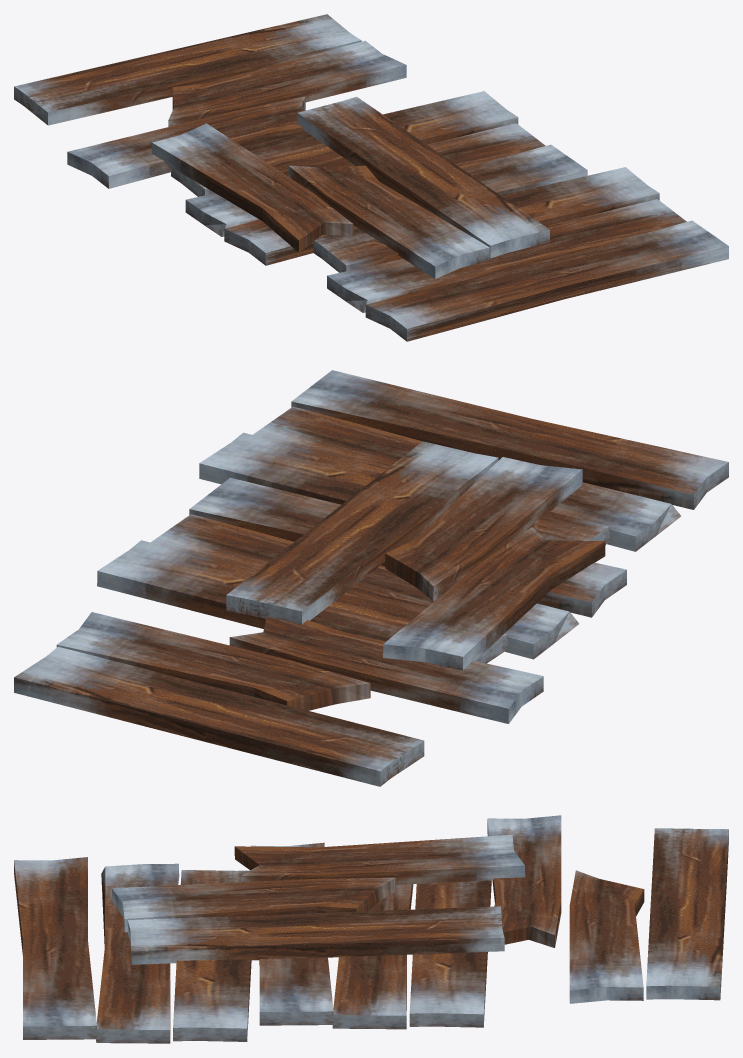
The model's file is Ice_wood02.FBX.
3 views of the same model, one above another, from view 1: azimuth 30°, elevation 25°; view 2: azimuth 150°, elevation 25°; view 3: azimuth 270°, elevation 25° (orthographic). The views are drawn at different scales.
Visible parts, largest first — view 1: 10205_wood007; view 2: 10205_wood007; view 3: 10205_wood007.
Boxes of the visible parts, x1,y1,x2,y2 form: 10205_wood007: [14, 14, 728, 341]; 10205_wood007: [14, 370, 728, 786]; 10205_wood007: [14, 815, 728, 1043].
Size of the model in its own units: 483 by 37.41 by 701.
